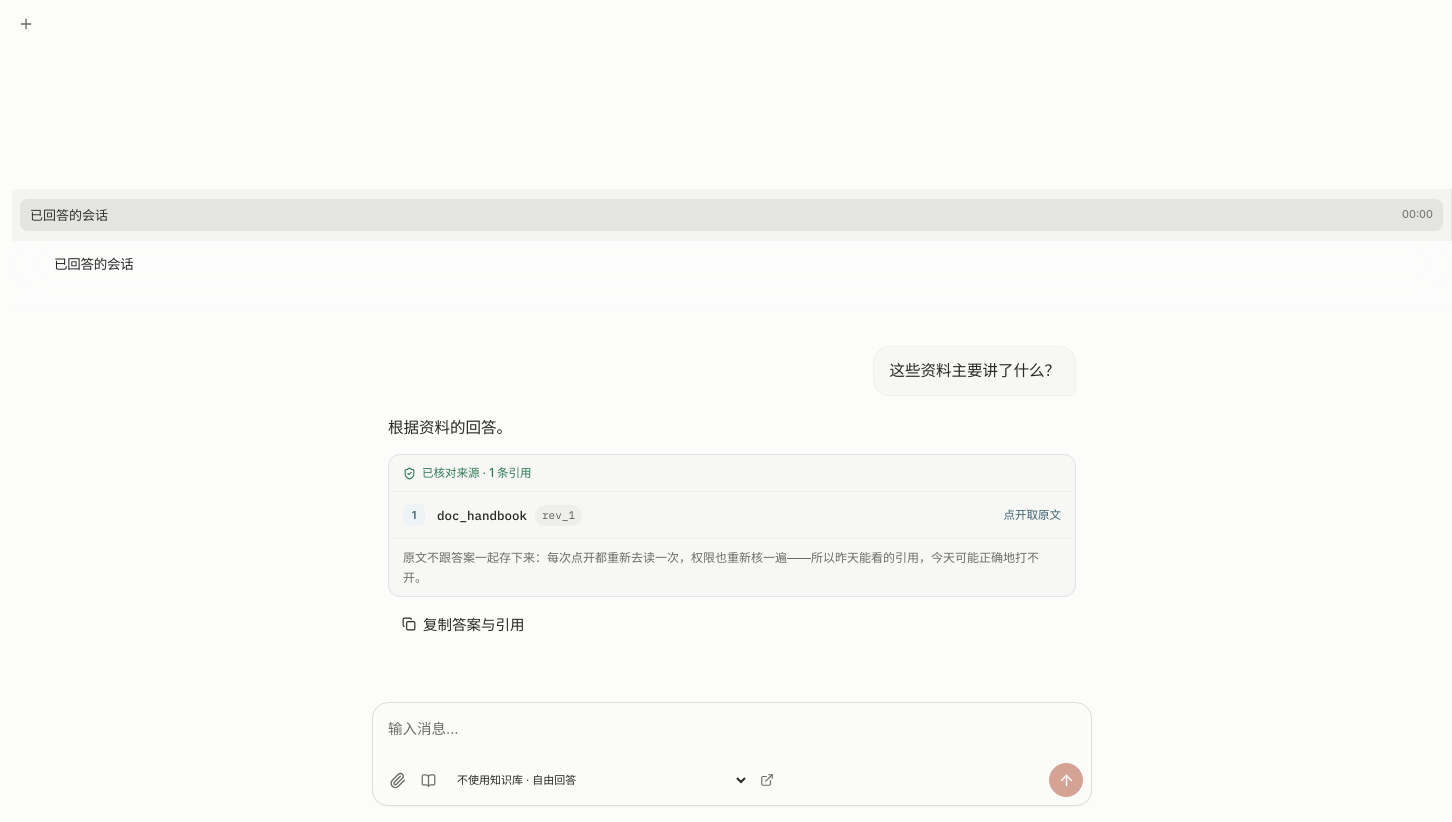
Test: Taking an answer somewhere else › reports a clipboard the browser refused rather than looking like it worked
Click the button "复制答案与引用".
click(463, 624)  # box [388,605,538,644]
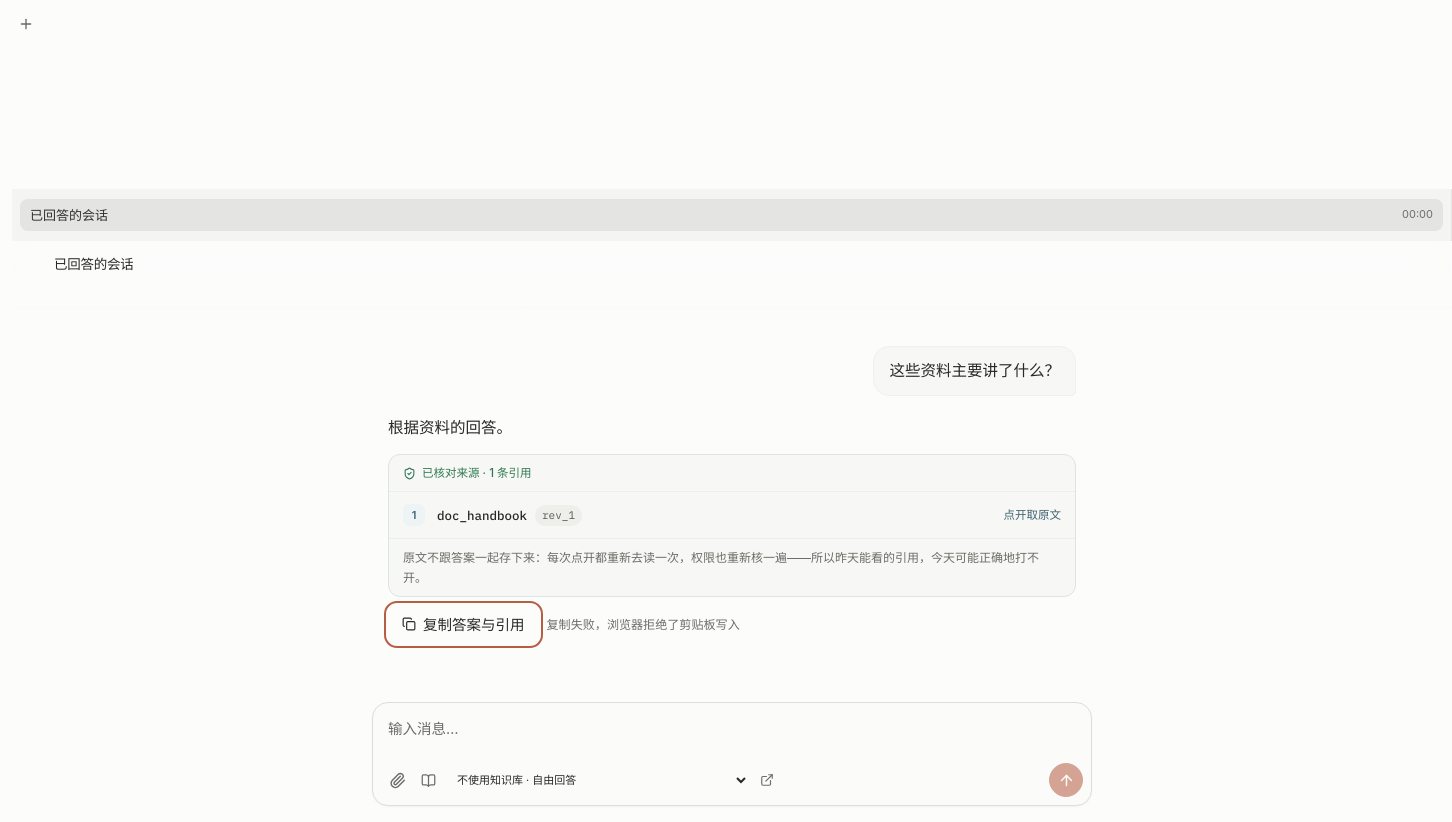
Expected: the text "复制失败，浏览器拒绝了剪贴板写入" is shown, [546,615,740,634]
